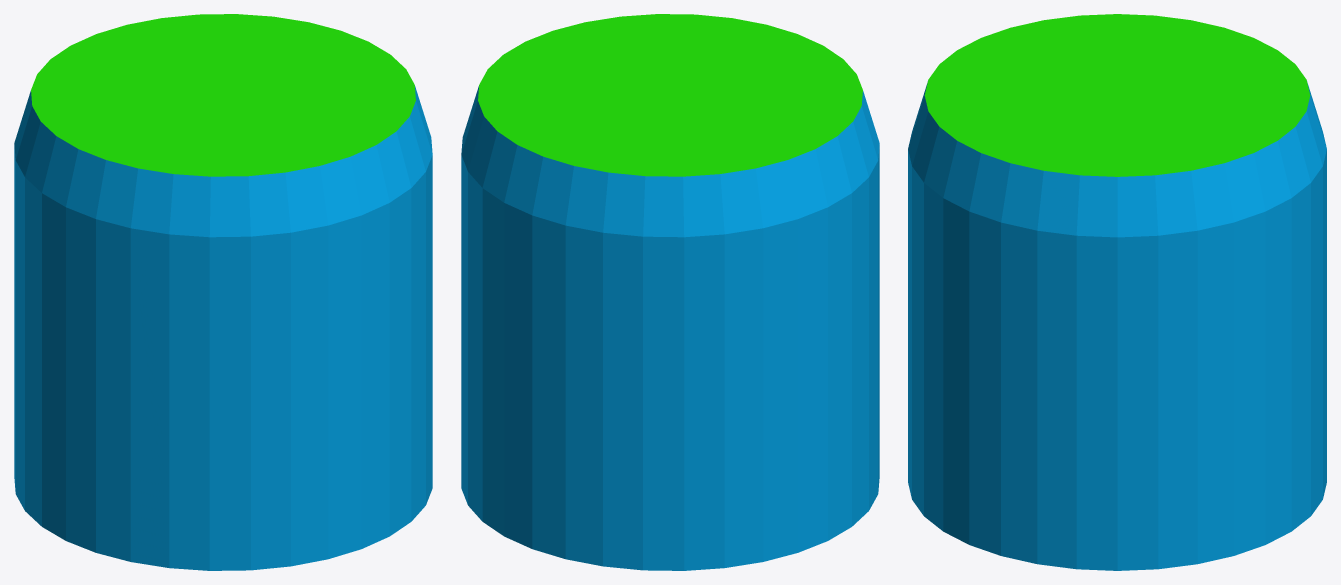
The model's file is Podium2st.fbx.
The picture shows the model from 3 angles, left to right: view 1: azimuth 30°, elevation 25°; view 2: azimuth 150°, elevation 25°; view 3: azimuth 270°, elevation 25°; orthographic projection.
Parts seen in each view (by area): view 1: Circle; view 2: Circle; view 3: Circle.
Part boxes in pixels (left/top/right/bottom): Circle: left=14, top=14, right=432, bottom=570; Circle: left=461, top=14, right=879, bottom=570; Circle: left=908, top=14, right=1326, bottom=570.
Bounding box in the file's own units: 817 × 832 × 817.
